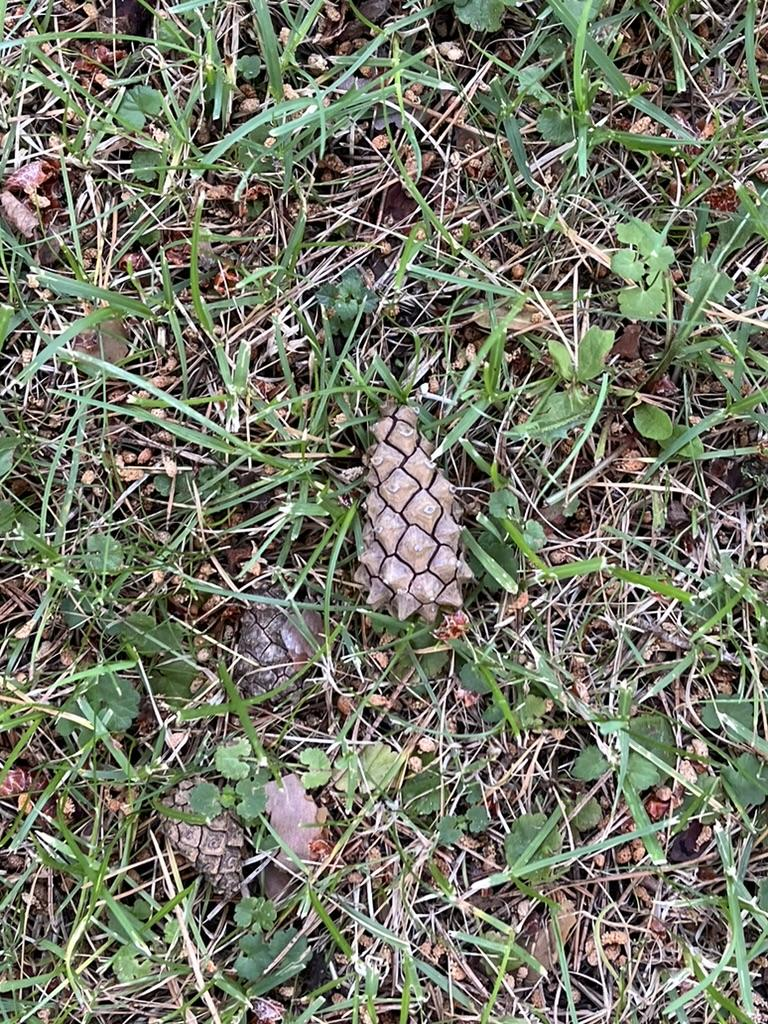pine: (344, 393, 499, 640), (144, 758, 264, 900), (228, 573, 318, 720)
